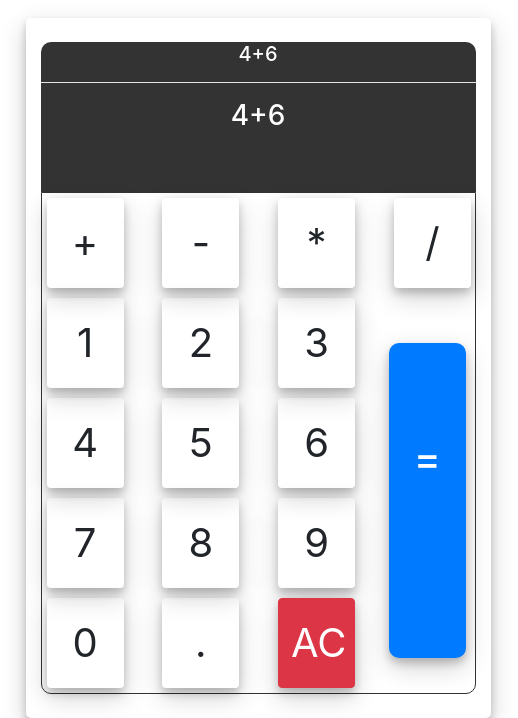
Scenario: Test in <Calculator /> › response the excercise
(page scrolled)
Click the element with class "divBtnResult". click: (427, 500)
box: [389, 343, 466, 658]
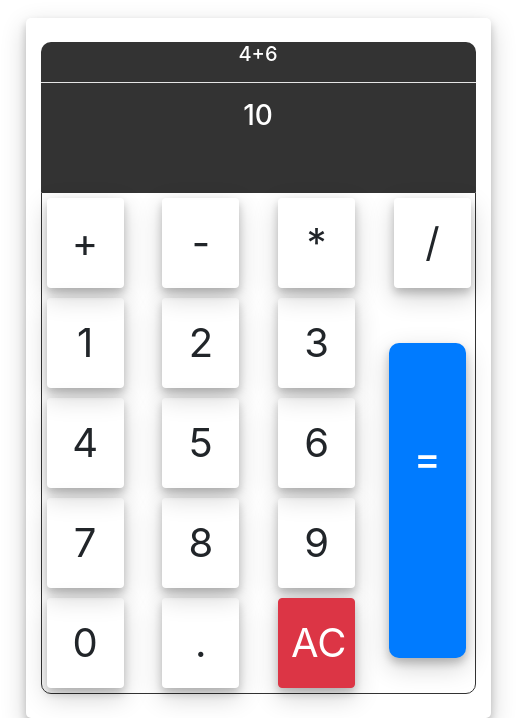
Expected: the heading "10" is shown, [243, 98, 273, 132]
